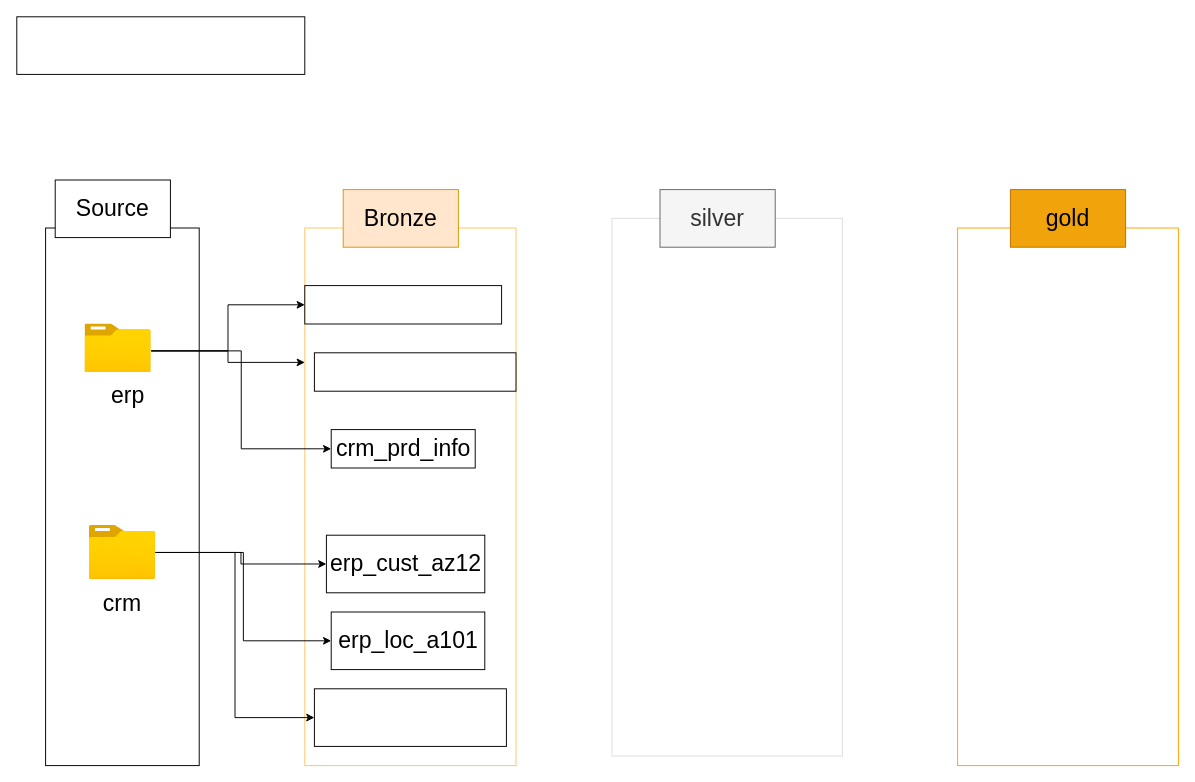
Some shapes in this 1195 by 782 pixel diagram are drawn without their labels. Here are the shapes that lost their labels. From the top down, the box of each, then its label:
(16, 16, 305, 74): dat aflow diagram
(304, 285, 502, 324): crm_sales_deatils
(313, 352, 516, 391): CRM_CUST_INFO
(313, 688, 506, 746): erp_px_cat_g1v2
